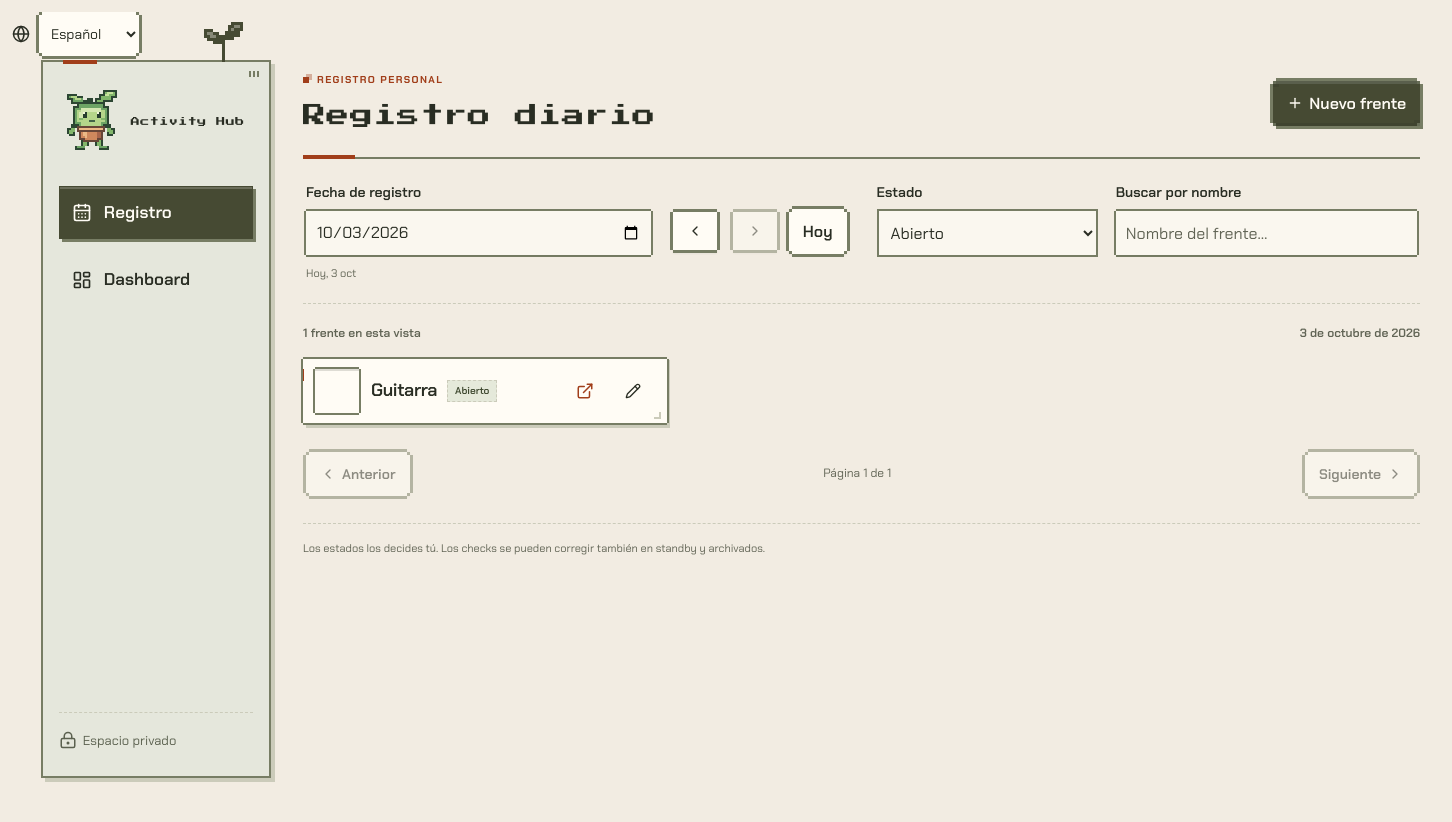
Test: Interfaz bilingüe sin reiniciar la aplicación › traduce el dashboard y sus fechas, sin modificar nombres, filtros o consultas
The width and height of the screenshot is (1452, 822).
Check: the heading "Guitarra" is shown, box [371,378,437,404]
Click the button "Dashboard". click: (156, 280)
box: [59,253,253,306]
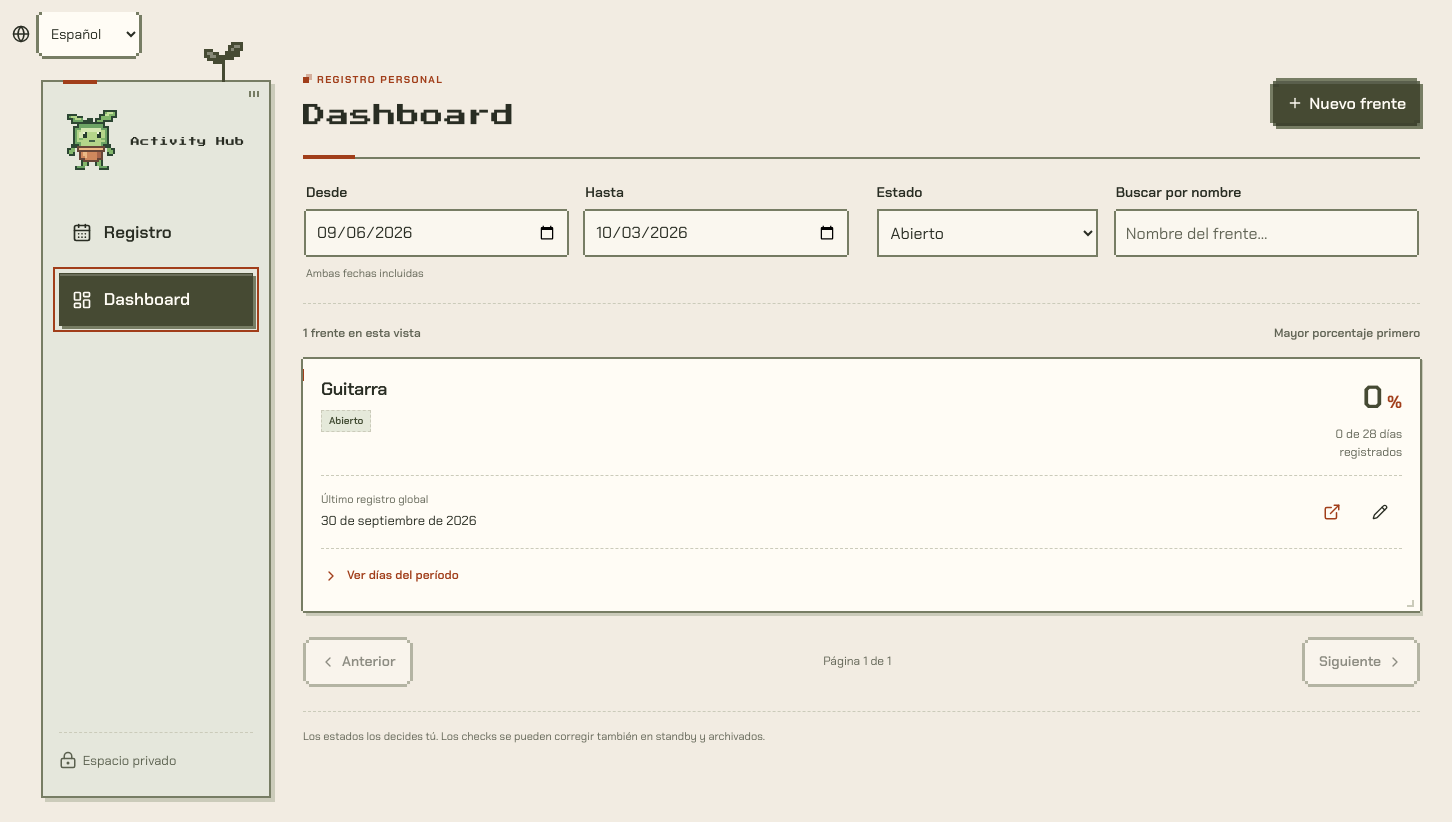
Check: the text "Ver días del período" is shown, box [347,566,459,585]
Select "English" in the dropdown named "Idioma". click: (89, 34)
box: [39,12,139,56]
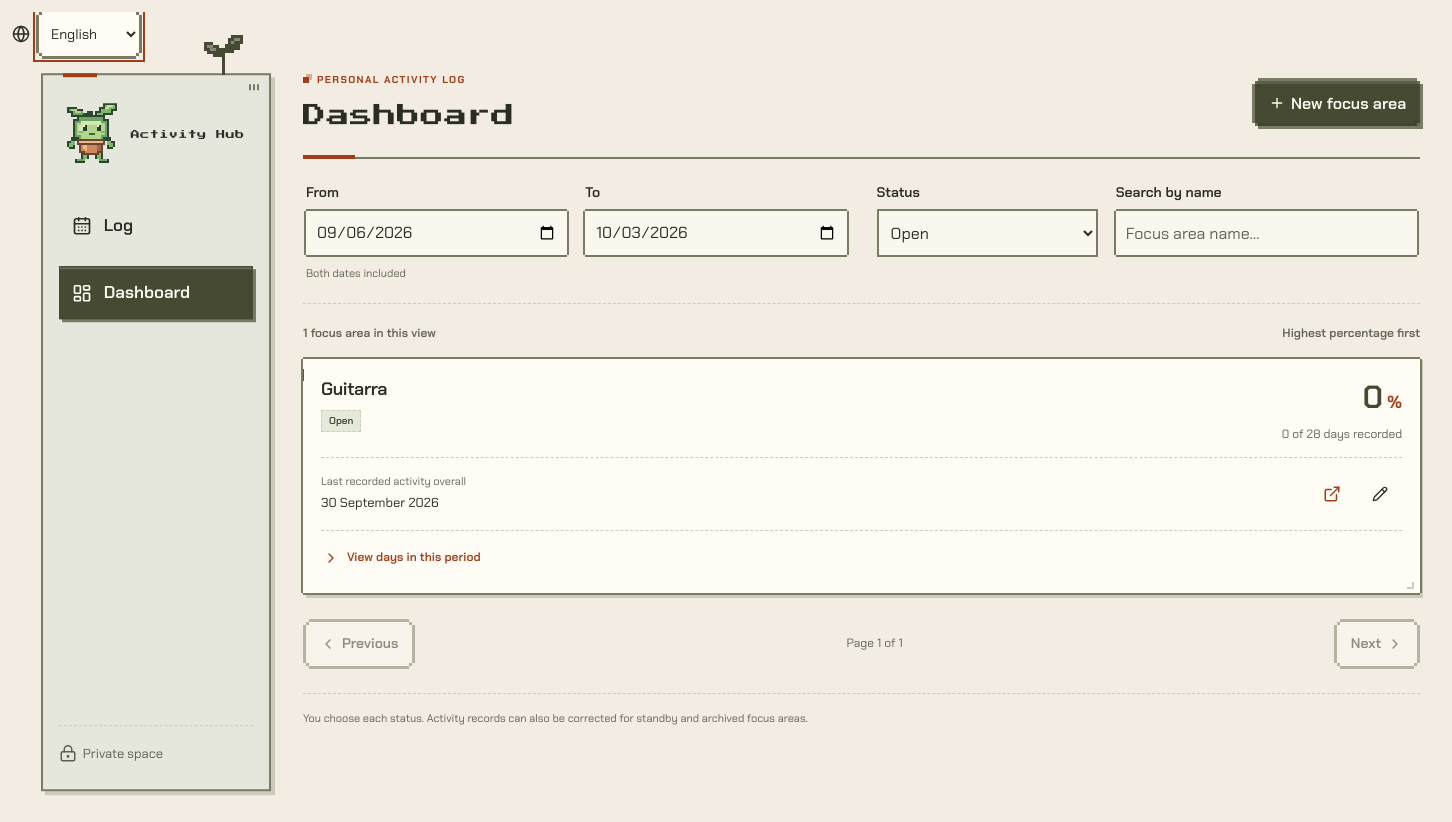
Check: the heading "Guitarra" is shown, box [321,377,387,402]
Check: the text "View days in this period" is shown, box [347,548,481,567]
Check: the text "Last recorded activity overall" is shown, box [321,474,466,488]
